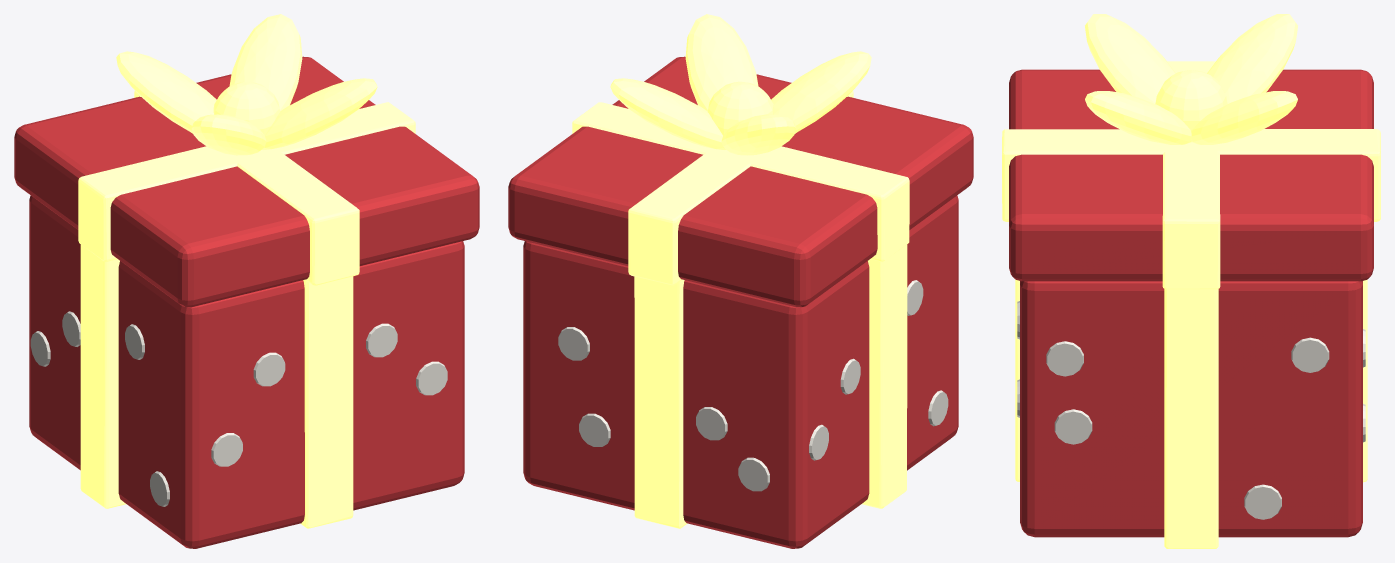
Rendered from Regalo.glb.
The picture shows the model from 3 angles, left to right: view 1: azimuth 30°, elevation 25°; view 2: azimuth 150°, elevation 25°; view 3: azimuth 270°, elevation 25°; orthographic projection. The views are drawn at different scales.
Parts seen in each view (by area): view 1: Regalo; view 2: Regalo; view 3: Regalo.
Boxes of the visible parts, left/top/right/bottom form: Regalo: left=14, top=14, right=479, bottom=548; Regalo: left=508, top=14, right=973, bottom=548; Regalo: left=1002, top=14, right=1380, bottom=548.
Bounding box in the file's own units: 1.04 × 1.26 × 1.04.
